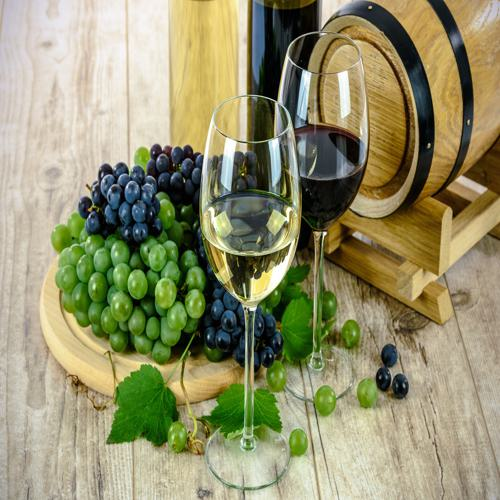copa: (201, 100, 293, 491), (274, 32, 371, 401)
